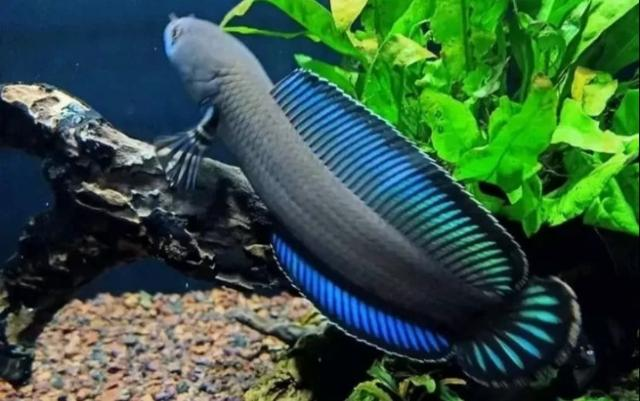Mulut: (153, 10, 211, 62)
Sirip Anal: (262, 228, 456, 367)
Sirip Dada: (146, 107, 230, 199)
Sirip Ekor: (434, 267, 590, 395)
Sirip Punggung: (271, 67, 524, 294)
